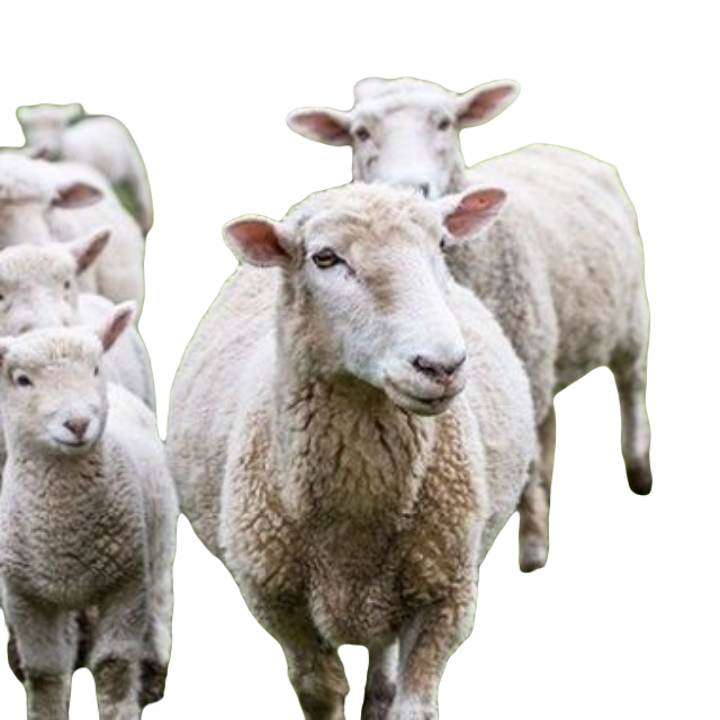Sheep: (168, 177, 539, 719), (0, 297, 164, 719)
